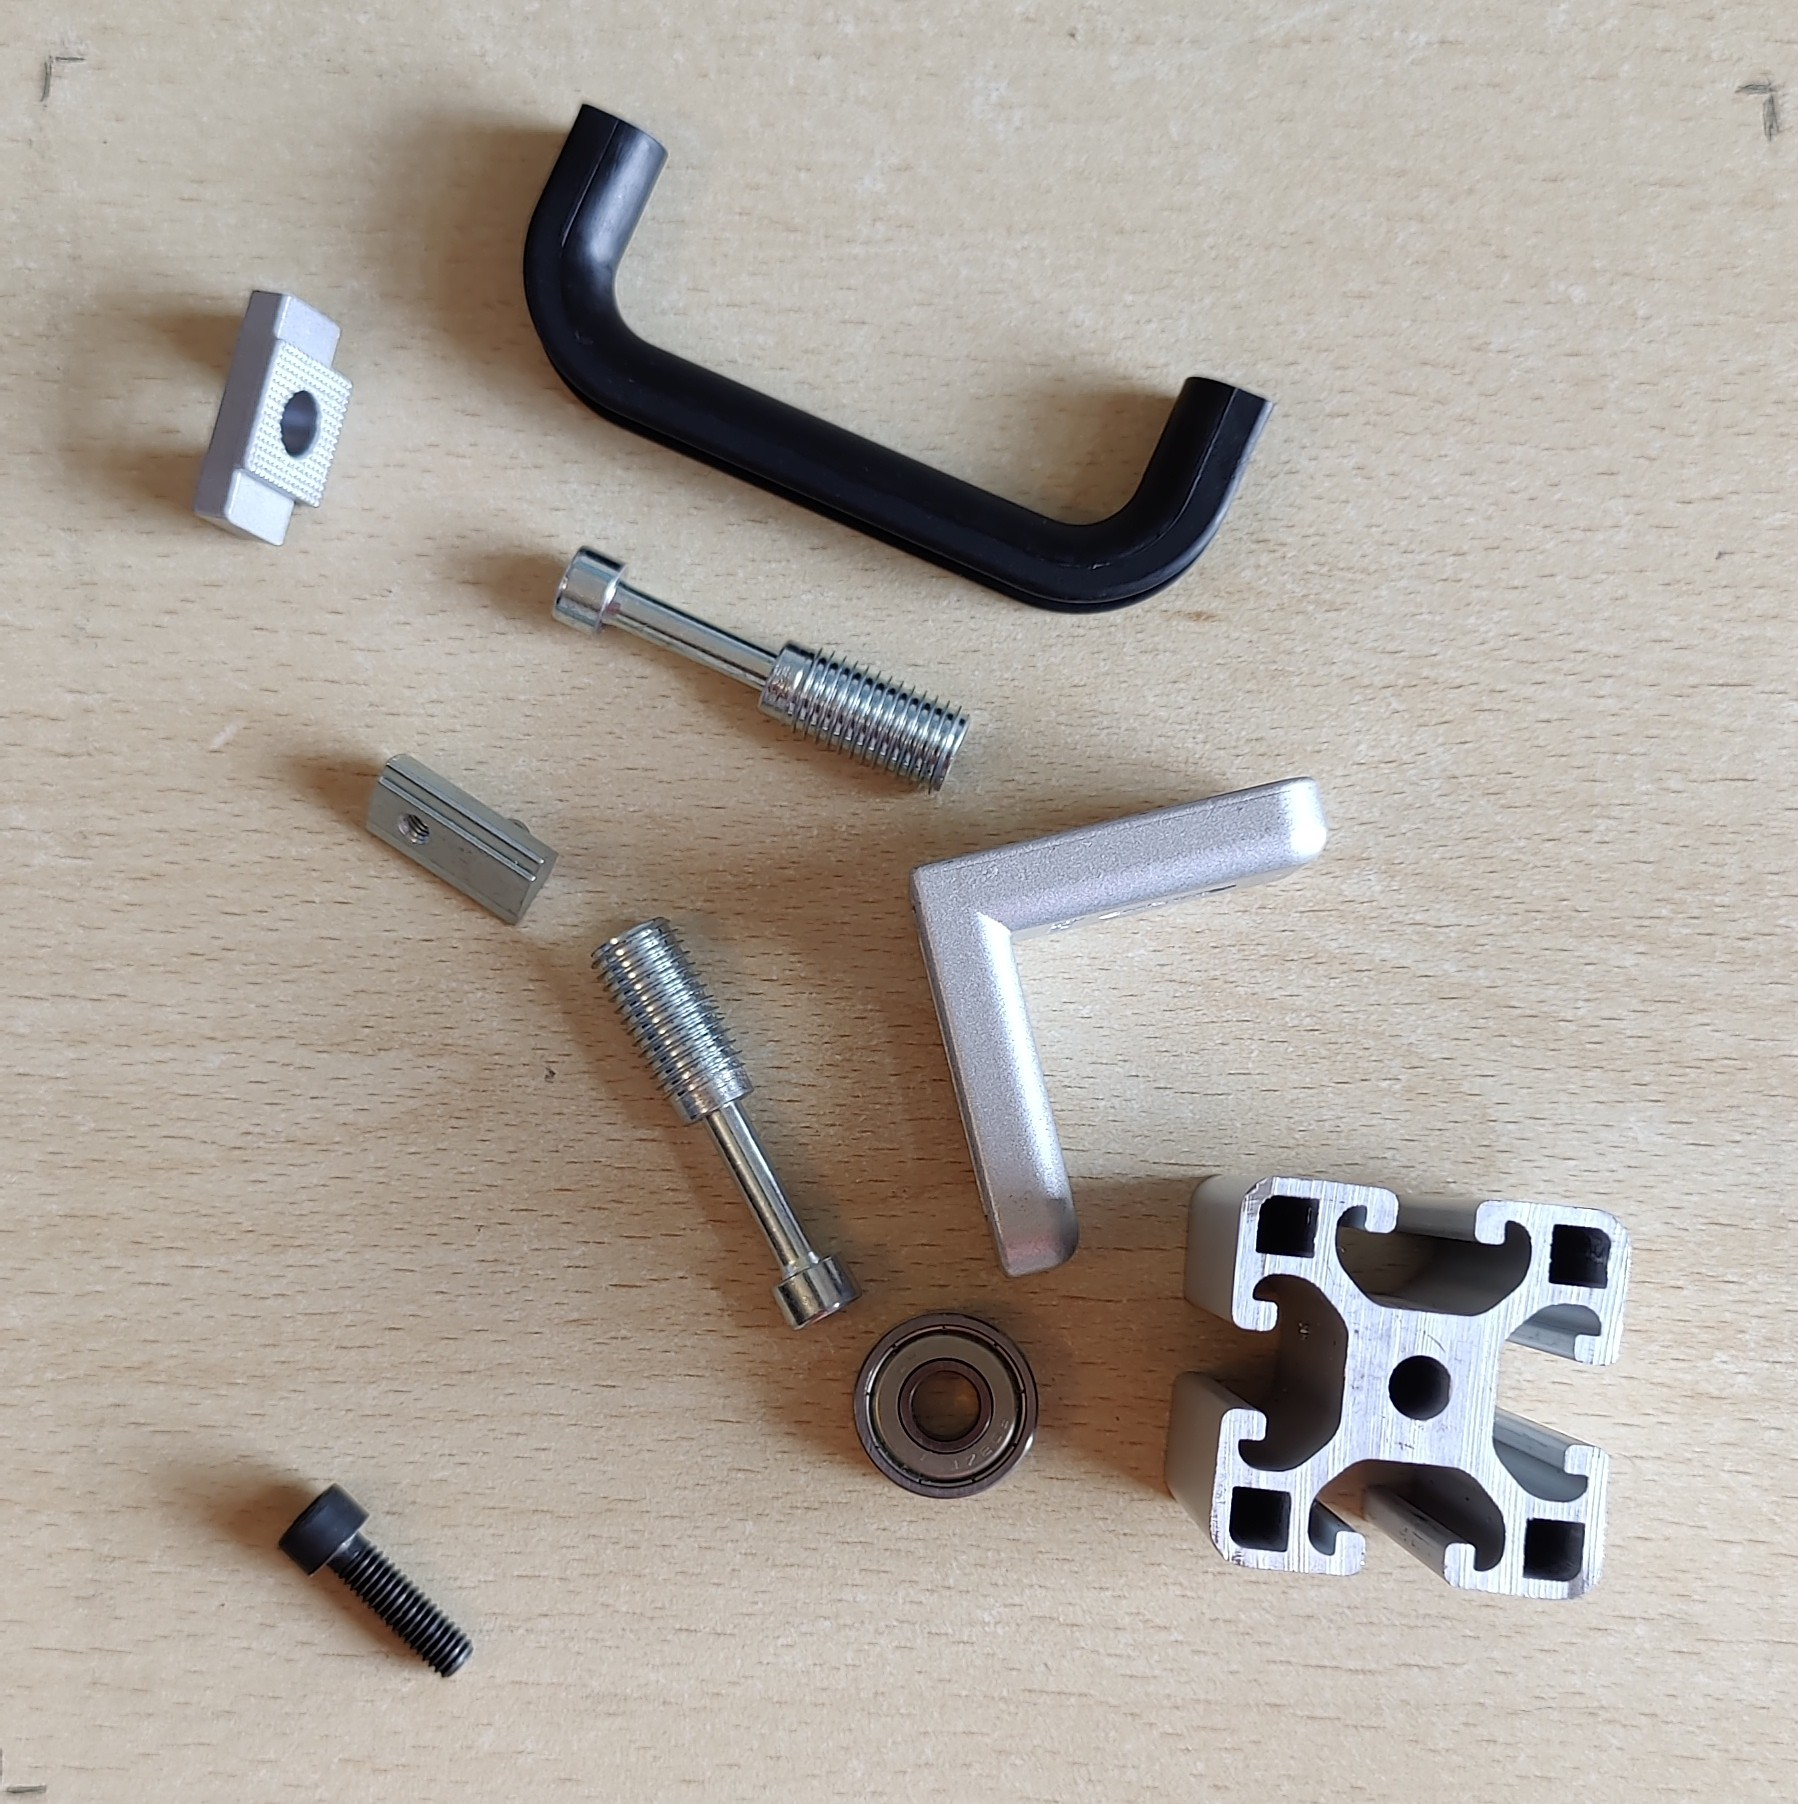Aluminium Extension: (1162, 1169, 1633, 1602)
Ball Bearing: (848, 1305, 1042, 1503)
Multiwinkel: (906, 770, 1330, 1281)
Pull Handle: (517, 100, 1278, 617)
Shoulder Socket Head Cap Screw: (586, 915, 864, 1335), (548, 542, 973, 797)
Socket Head Cap Screw: (275, 1480, 477, 1684)
T Nut Square: (188, 286, 356, 550)
T Spring Nut: (359, 749, 561, 932)
